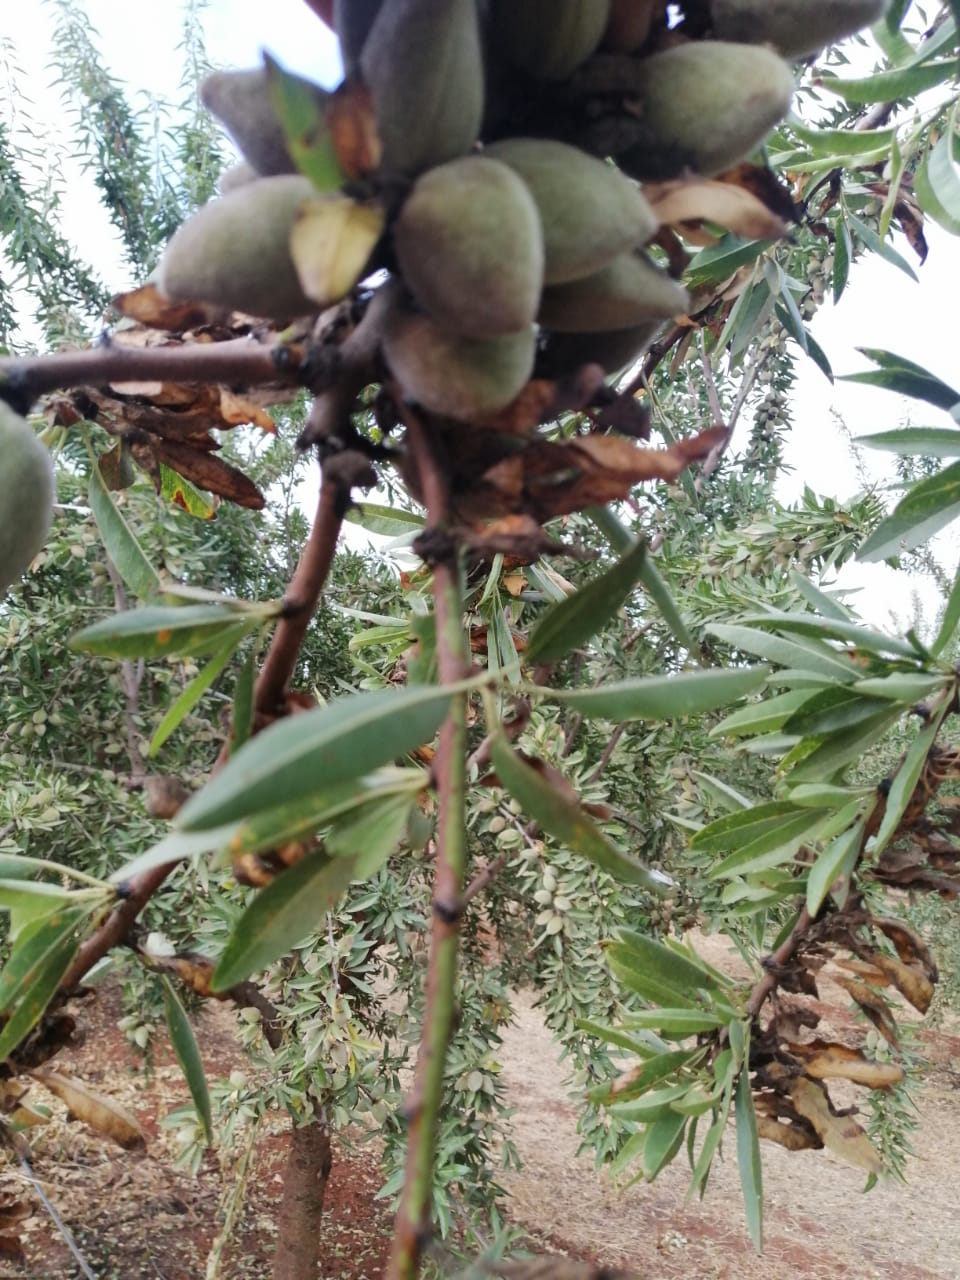scolytes: (714, 677, 960, 1176), (368, 376, 740, 580)
